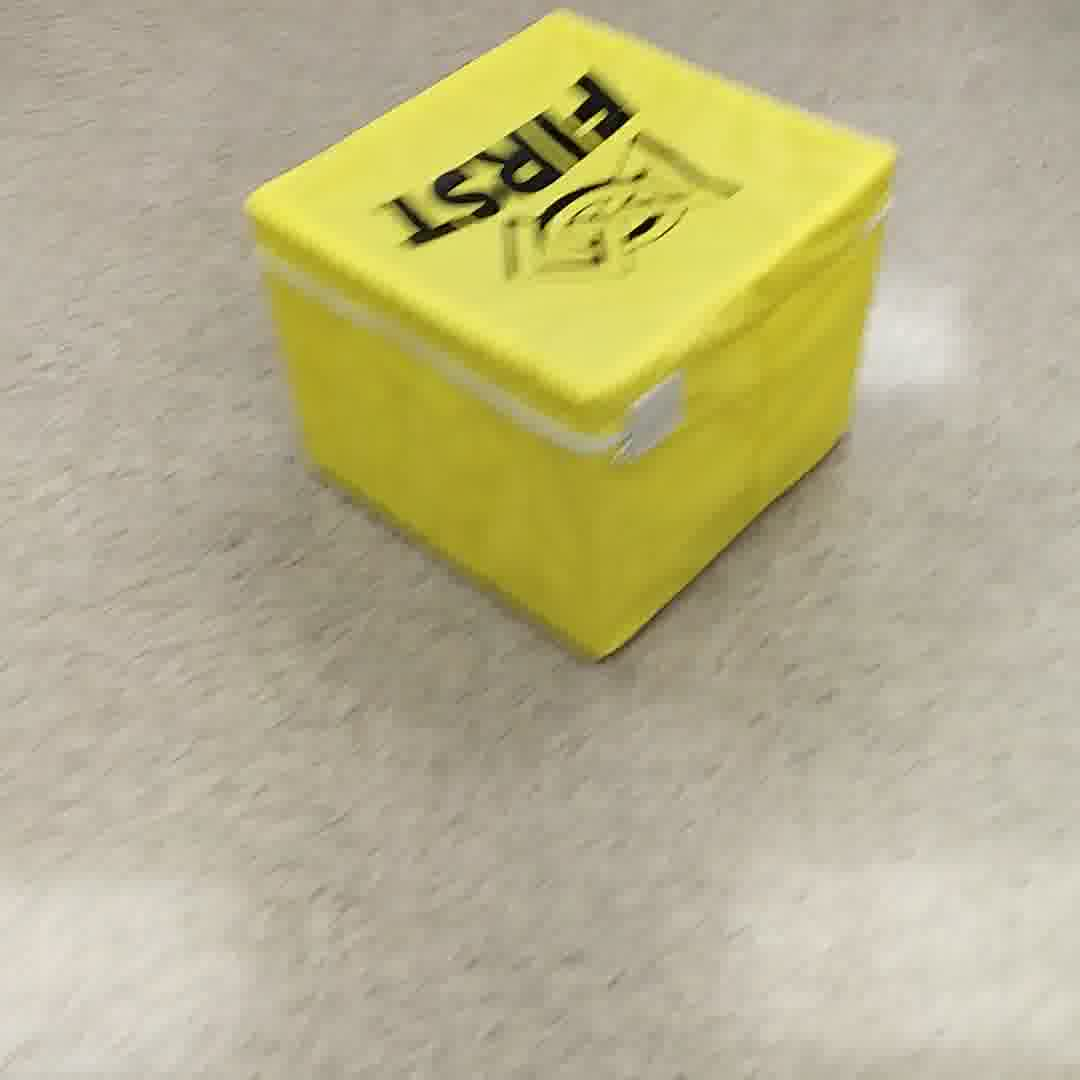box: (232, 16, 900, 657)
